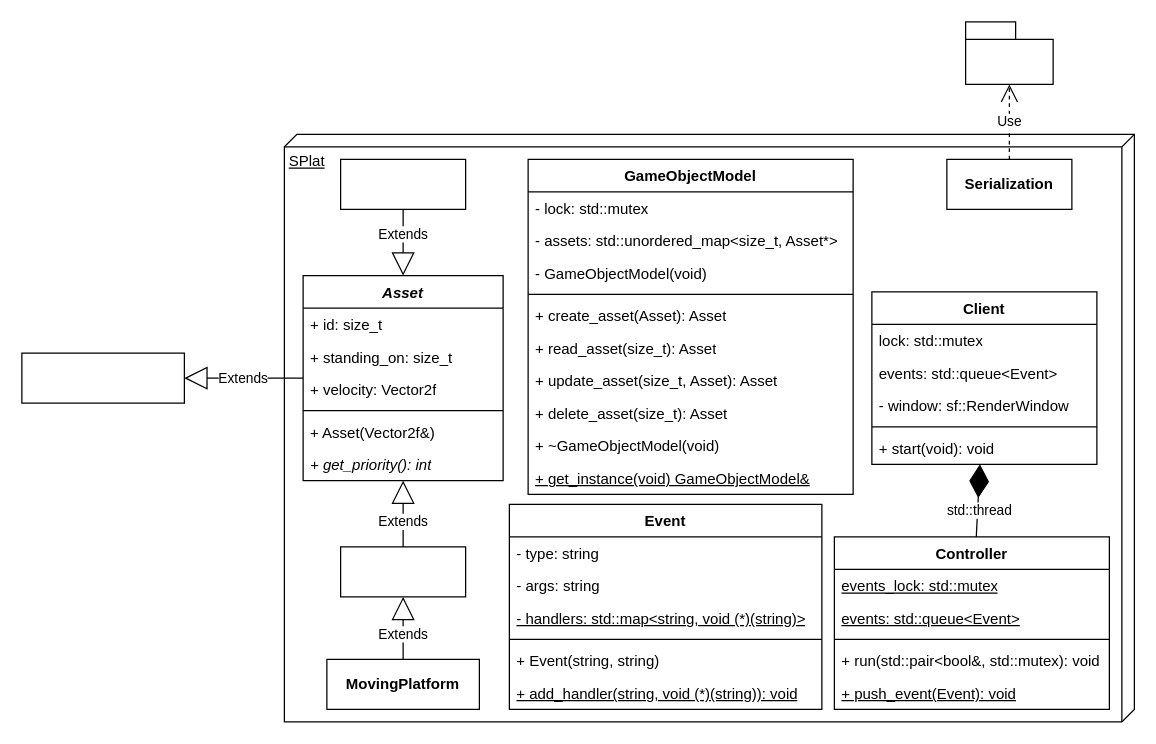
Some shapes in this 1156 by 744 pixel diagram are drawn without their labels. Here are the shapes that lost their labels. From the top down, the centre of each, then its label:
At point 1008,52: "cereal".
At point 402,183: "Character".
At point 102,377: "sf::RectangleShape".
At point 402,571: "Platform".
